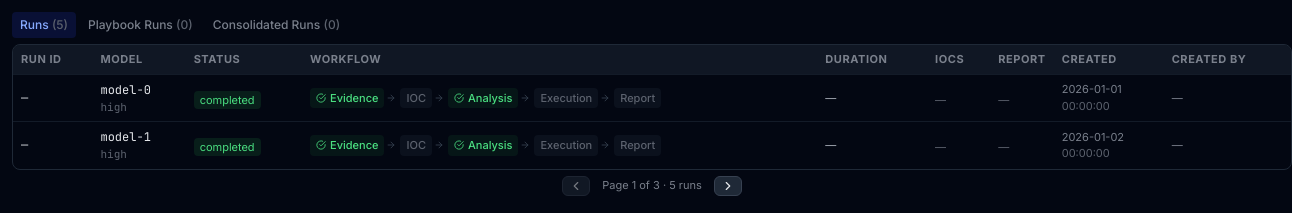
it: RunsStatusTable › pagination (issue-local-042 item 27) › paginates to the configured page size and Next/Prev walk through the runs
expect the text "Page 1 of 3 · 5 runs" is shown: met, box [602, 177, 702, 194]
expect the text "model-0" is shown: met, box [100, 82, 151, 98]
What coordinates should you click on to do the following:
click the button named "Next runs page"
I would click on:
 (728, 186)
Its box is [714, 176, 742, 196].
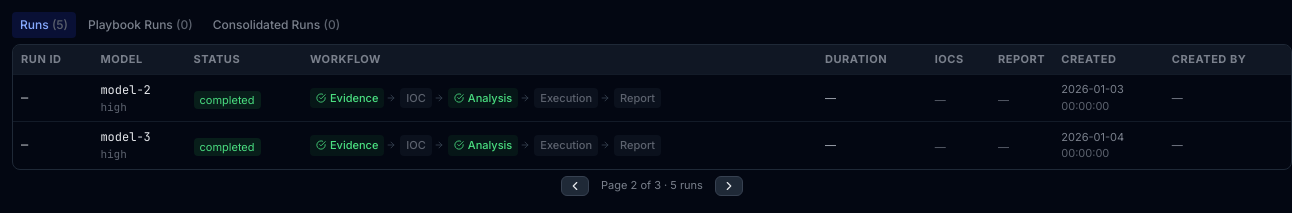
expect the text "Page 2 of 3 · 5 runs" is shown: met, box [601, 177, 703, 194]
expect the text "model-2" is shown: met, box [100, 82, 151, 98]
expect the text "model-3" is shown: met, box [100, 129, 151, 145]
What coordinates should you click on to do the following:
click the button named "Next runs page"
I would click on:
 (729, 186)
Its box is [715, 176, 743, 196].
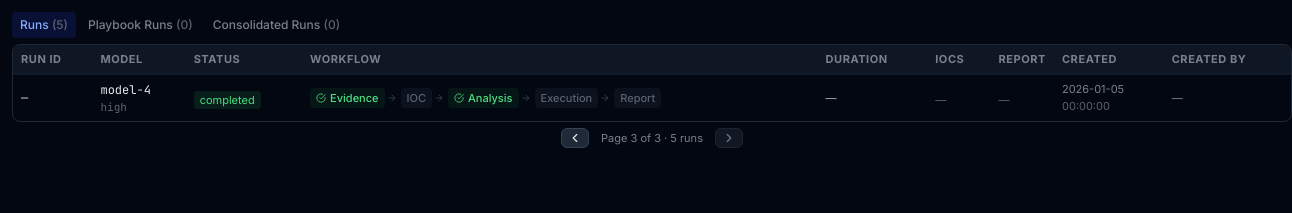
expect the text "Page 3 of 3 · 5 runs" is shown: met, box [601, 130, 703, 146]
expect the text "model-4" is shown: met, box [100, 82, 151, 98]
expect the button named "Next runs page" is disabled: met, box [715, 128, 743, 148]
What coordinates should you click on to do the following:
click the button named "Previous runs page"
I would click on:
 (575, 138)
Its box is [561, 128, 589, 148].
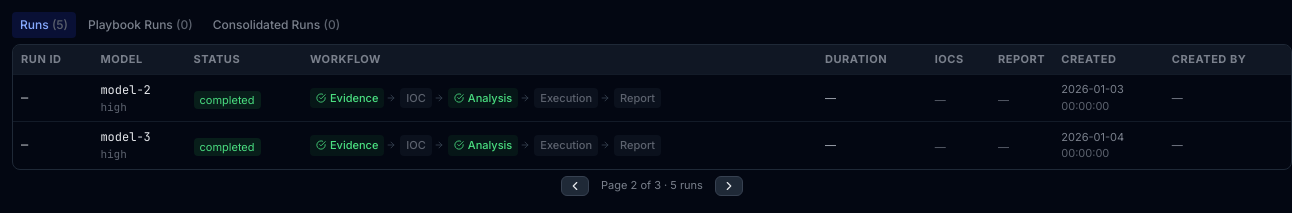
expect the text "Page 2 of 3 · 5 runs" is shown: met, box [601, 177, 703, 194]
